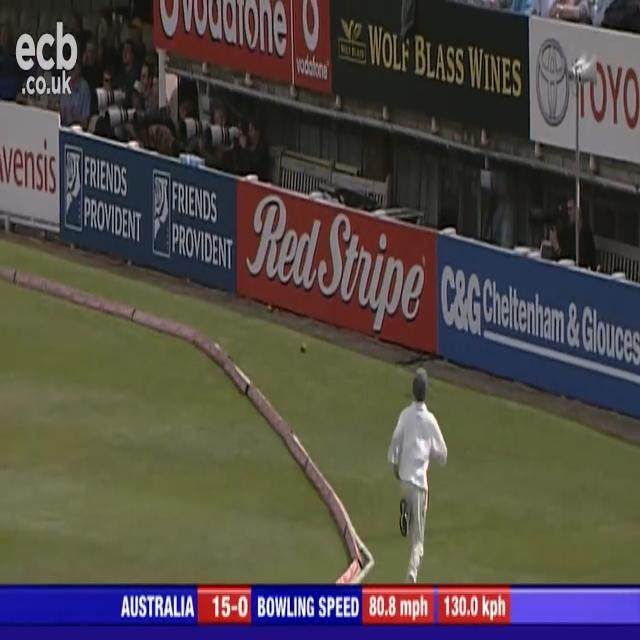ball: (296, 338, 309, 358)
